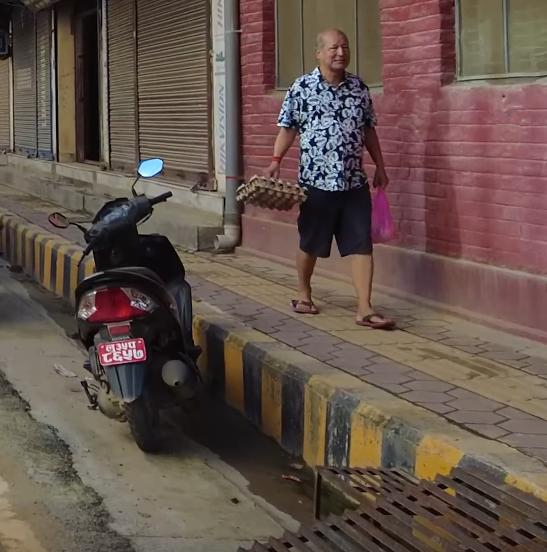scooter: (47, 152, 207, 462)
